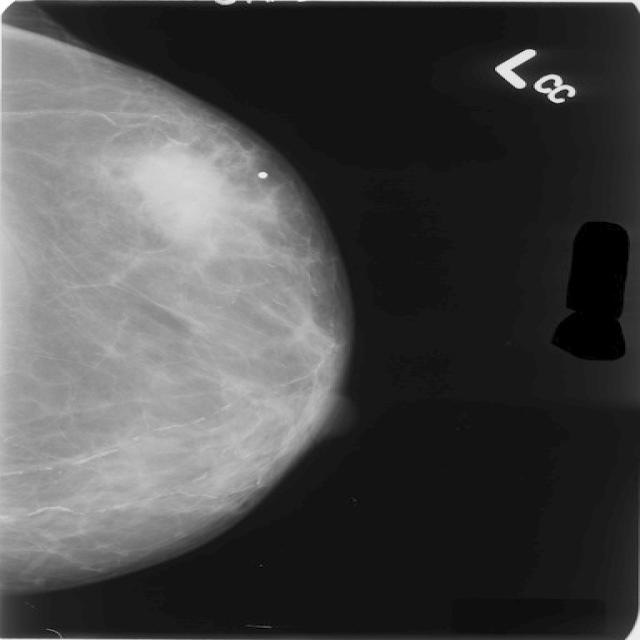tumour: (128, 144, 232, 240)
